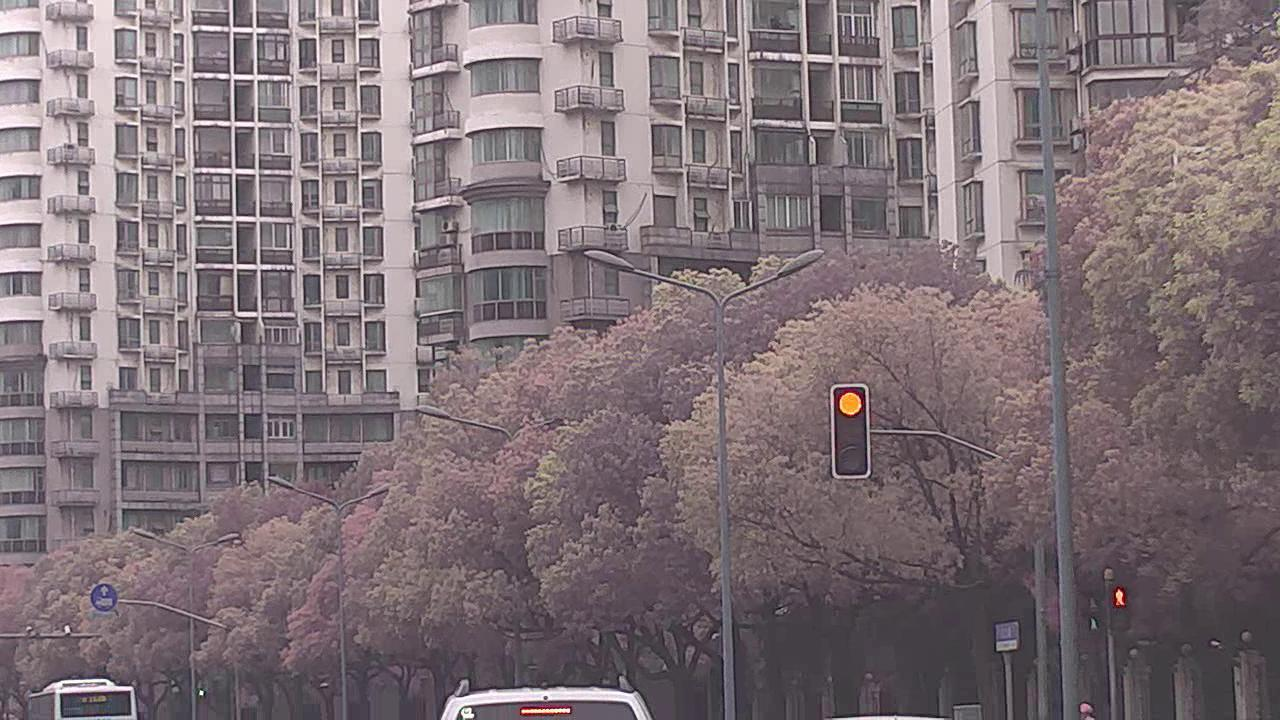traffic_light: (830, 384, 872, 478)
